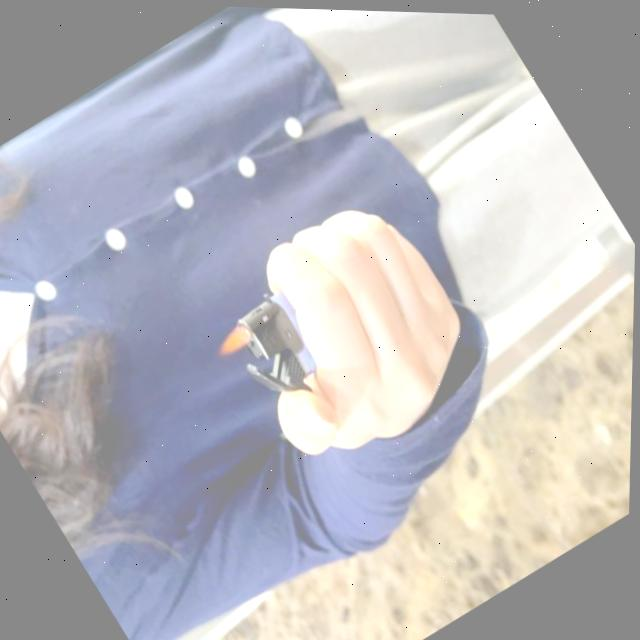Fire: (212, 316, 258, 358)
